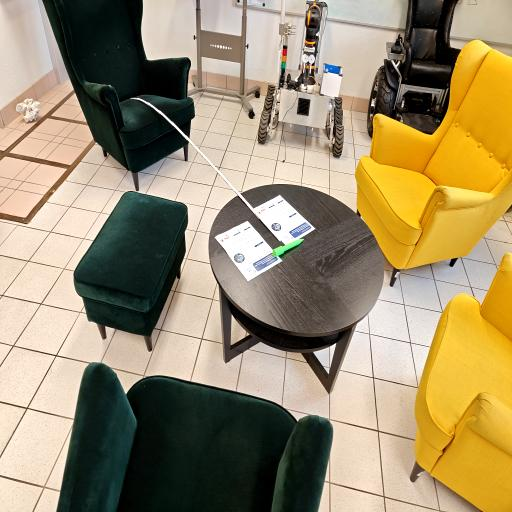Probe-Detection: (273, 239, 303, 257)
